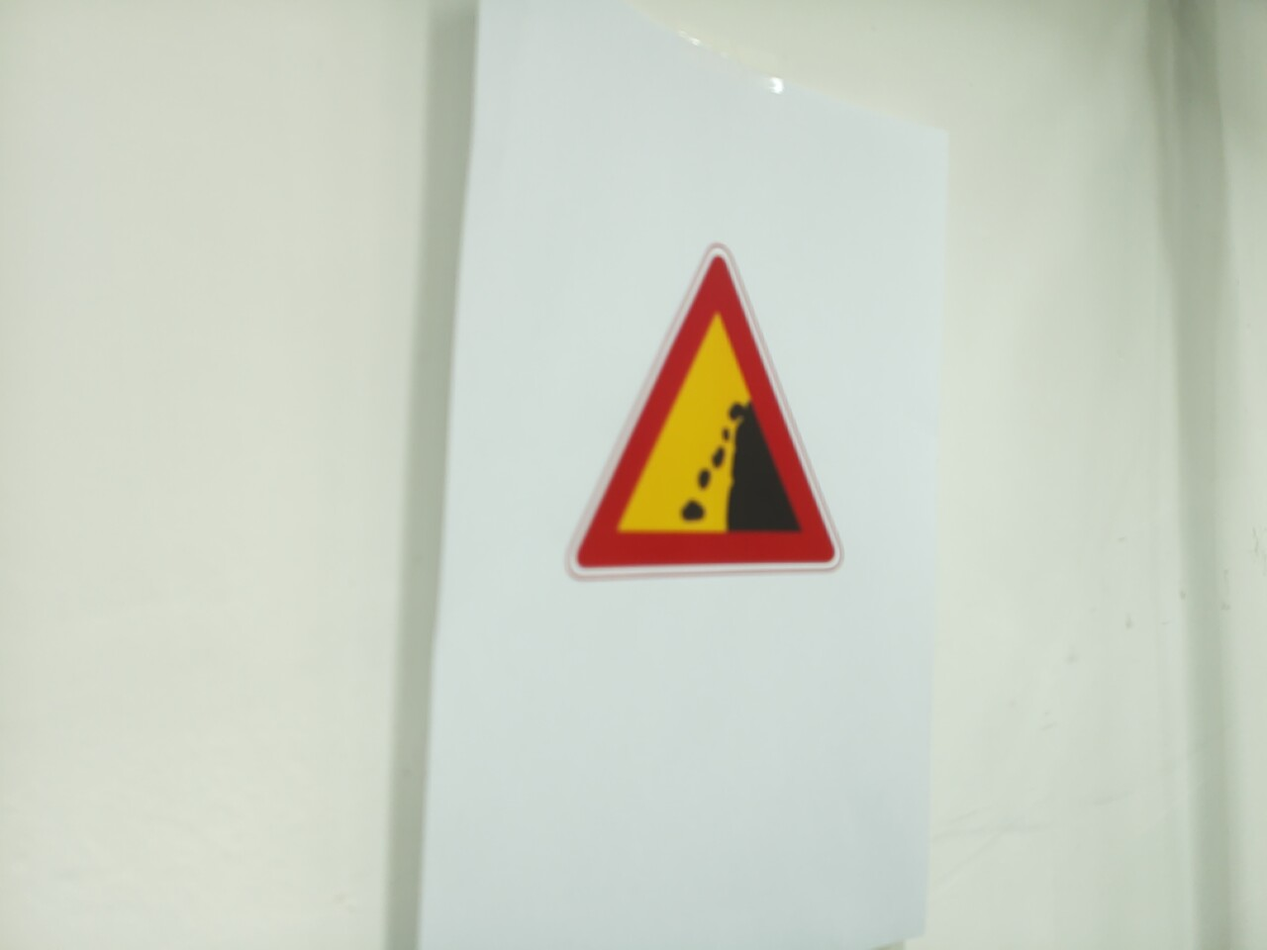falling_rocks: (568, 246, 844, 578)
